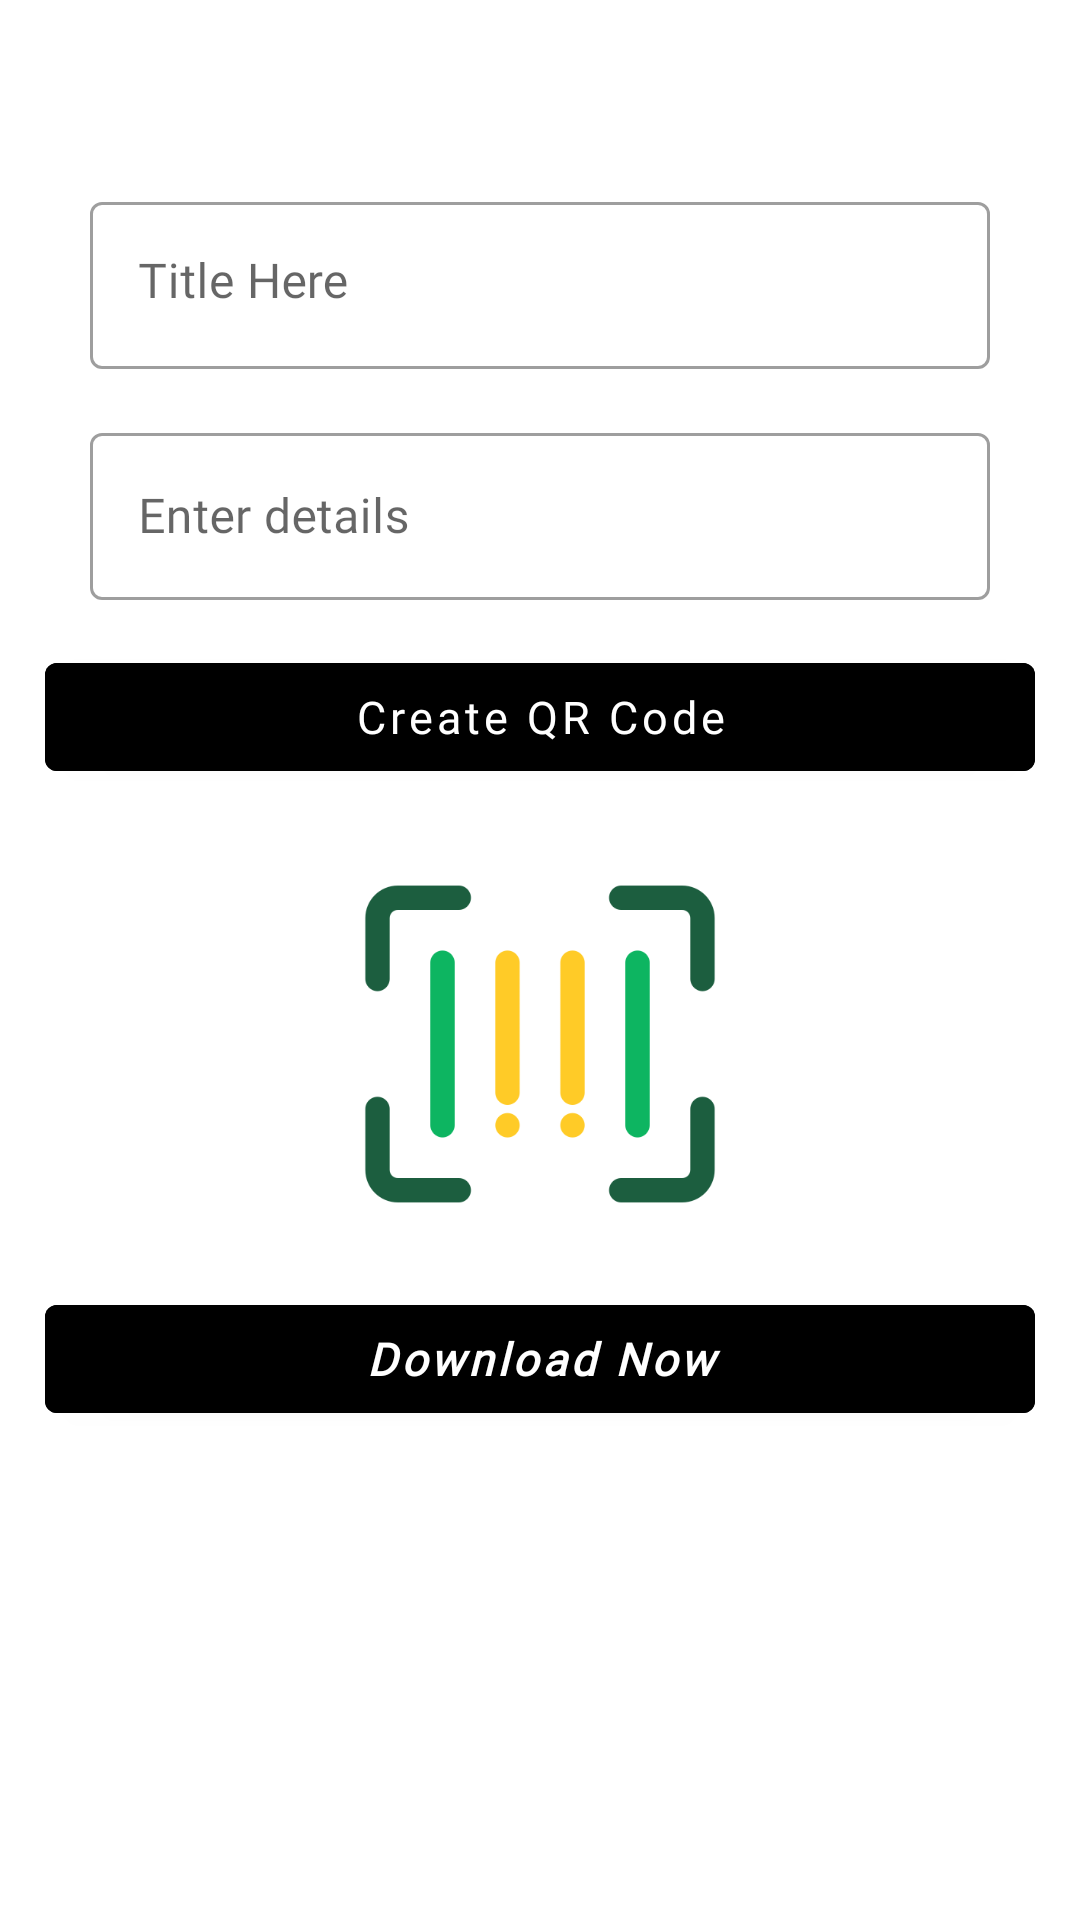

Icon click points for this 1080x1920 phone screenshot, format (x,y):
barcode qr: (540,1044)
